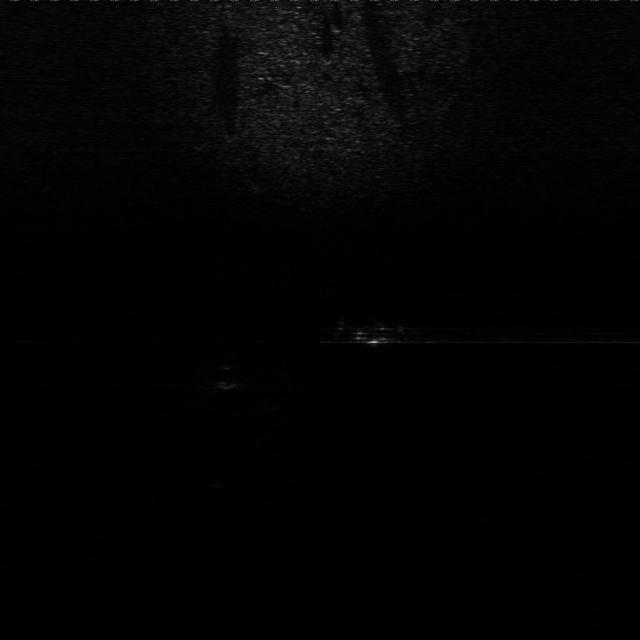ball: (208, 364, 248, 390)
human body: (338, 318, 417, 348)
